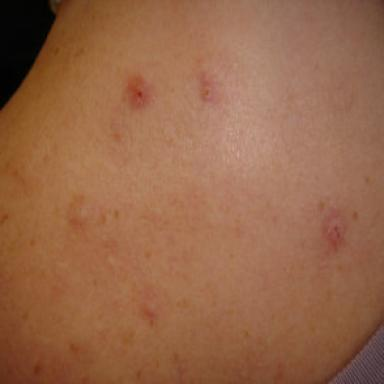acne: (124, 74, 154, 109), (323, 208, 346, 250), (141, 291, 163, 327), (199, 72, 218, 104)
